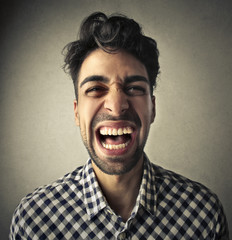young: (63, 16, 161, 157)
